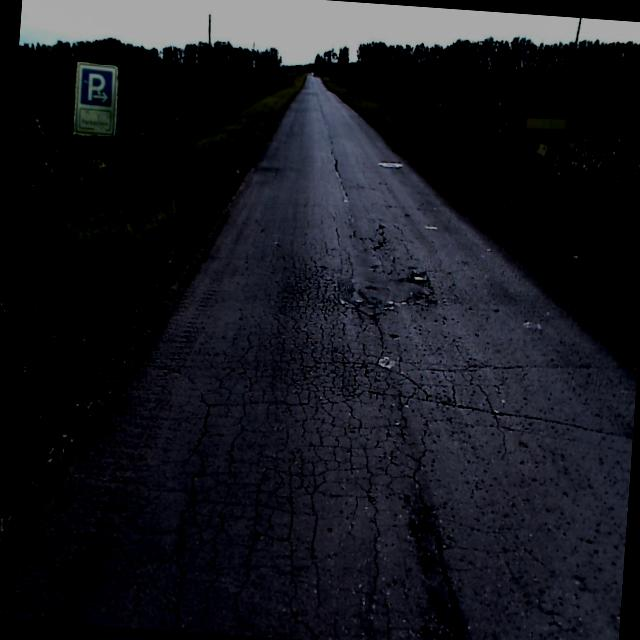road: (0, 76, 637, 640)
